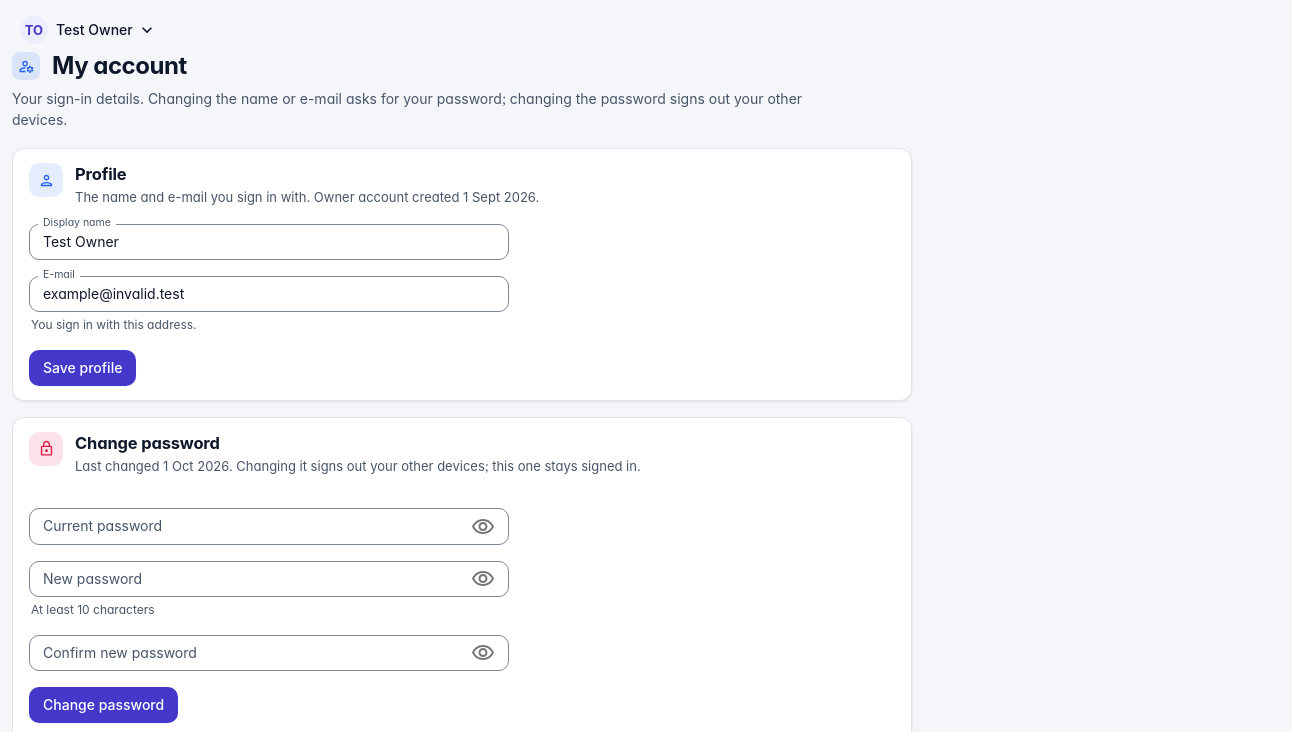
Test: My account: profile › shows the name and e-mail, and says there is nothing to save when Save is pressed unchanged
The image size is (1292, 732).
Expected: the field labelled "Display name" holds "Test Owner", [29,224,509,260]
Expected: the field labelled "E-mail" holds "example@invalid.test", [29,276,509,312]
Click the button "Save profile" at (83, 368), box [29,350,136,386]
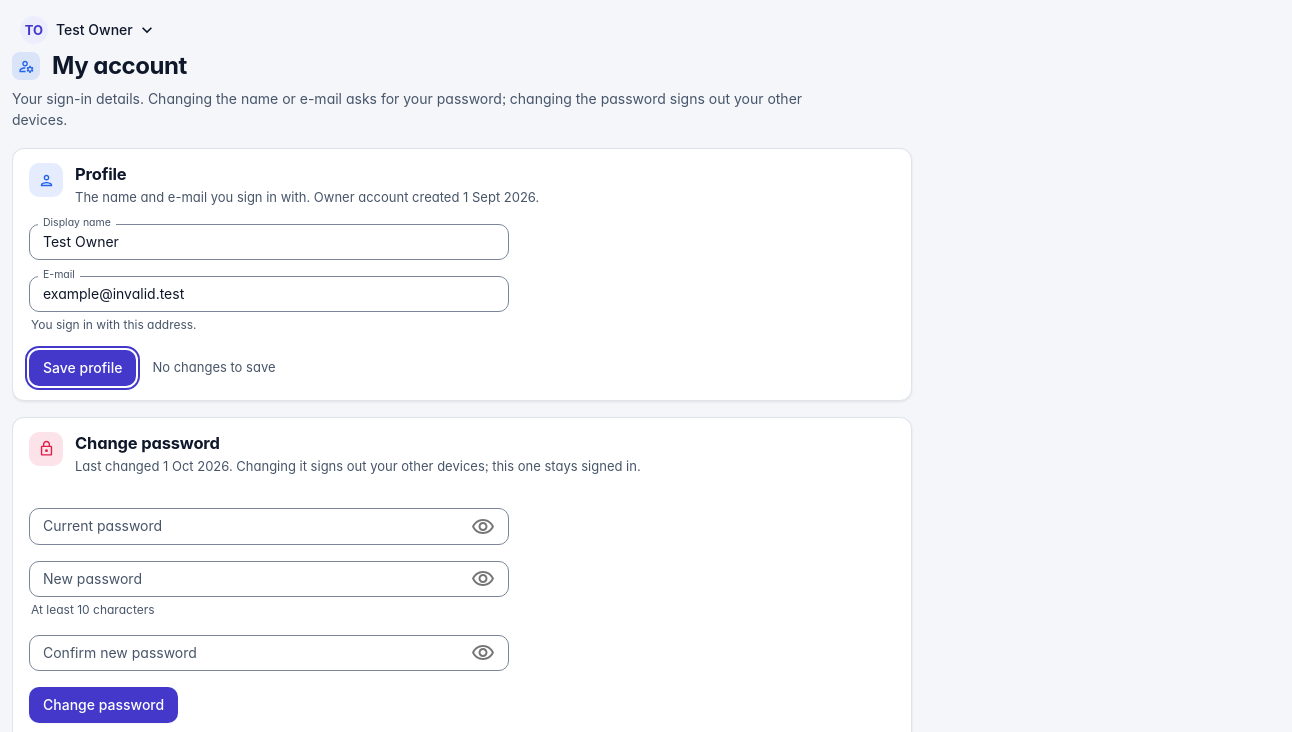
Result: the message reads "No changes to save" at [152,359,276,375]
Type " Jr" into the field labelled "Display name" at (269, 242), box [29,224,509,260]
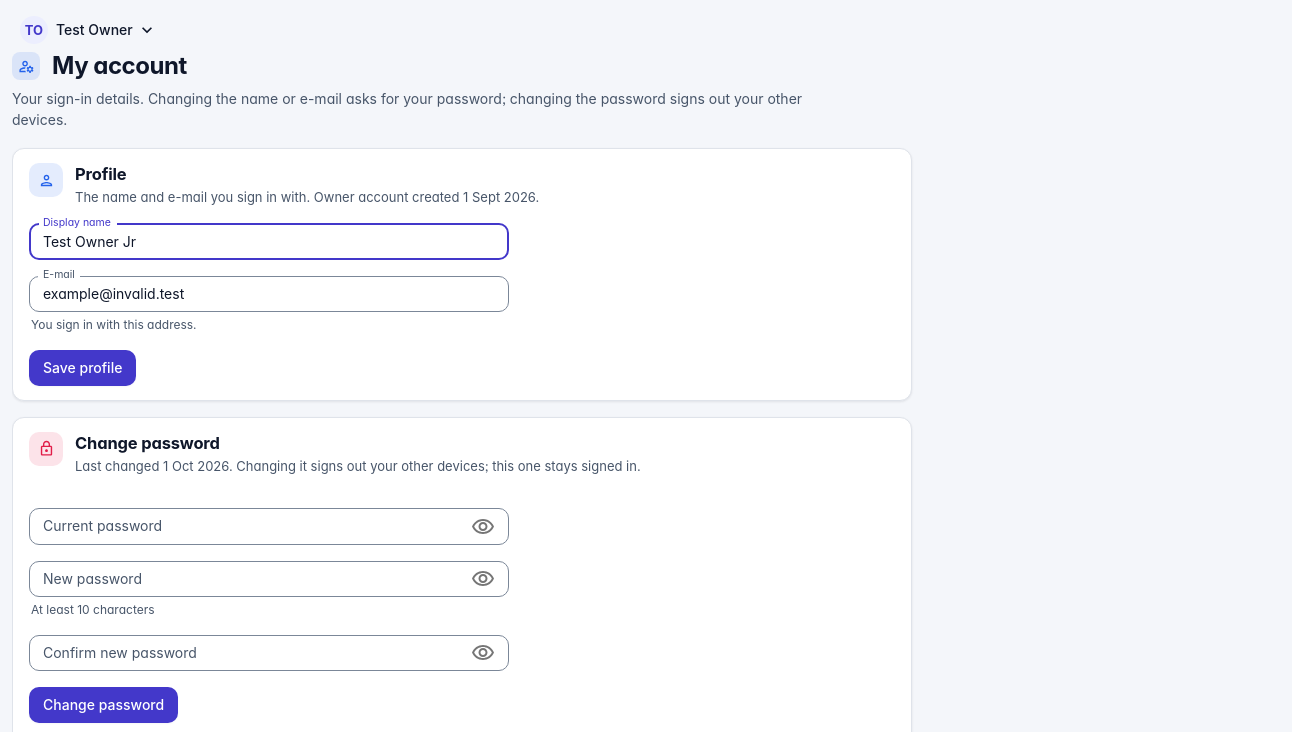
Result: the text "No changes to save" is gone
